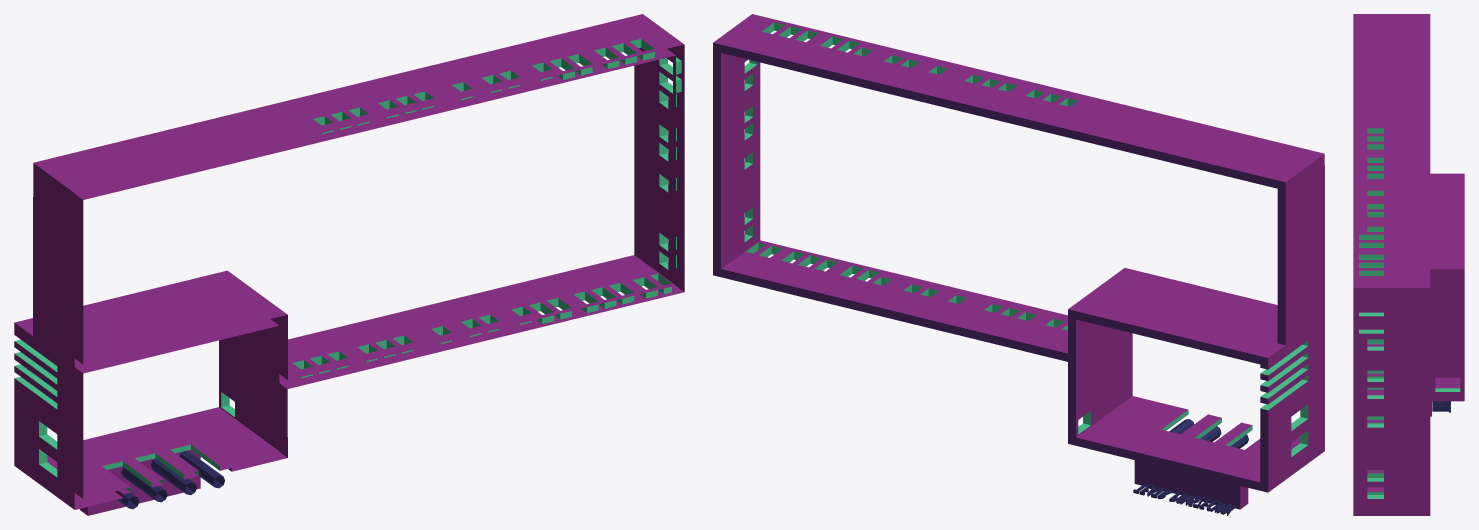
File: Teatr powszechny Tier 1.fbx
The picture shows the model from 3 angles, left to right: view 1: azimuth 30°, elevation 25°; view 2: azimuth 150°, elevation 25°; view 3: azimuth 270°, elevation 25°; orthographic projection. The views are drawn at different scales.
Parts seen in each view (by area): view 1: Teatr_obj_0; view 2: Teatr_obj_0; view 3: Teatr_obj_0.
Part boxes in pixels (box(x1,y1,x2,y2)): Teatr_obj_0: box(14, 14, 684, 515); Teatr_obj_0: box(713, 14, 1324, 515); Teatr_obj_0: box(1353, 14, 1464, 515).
Bounding box in the file's own units: 3.79 × 2.13 × 0.6493.
